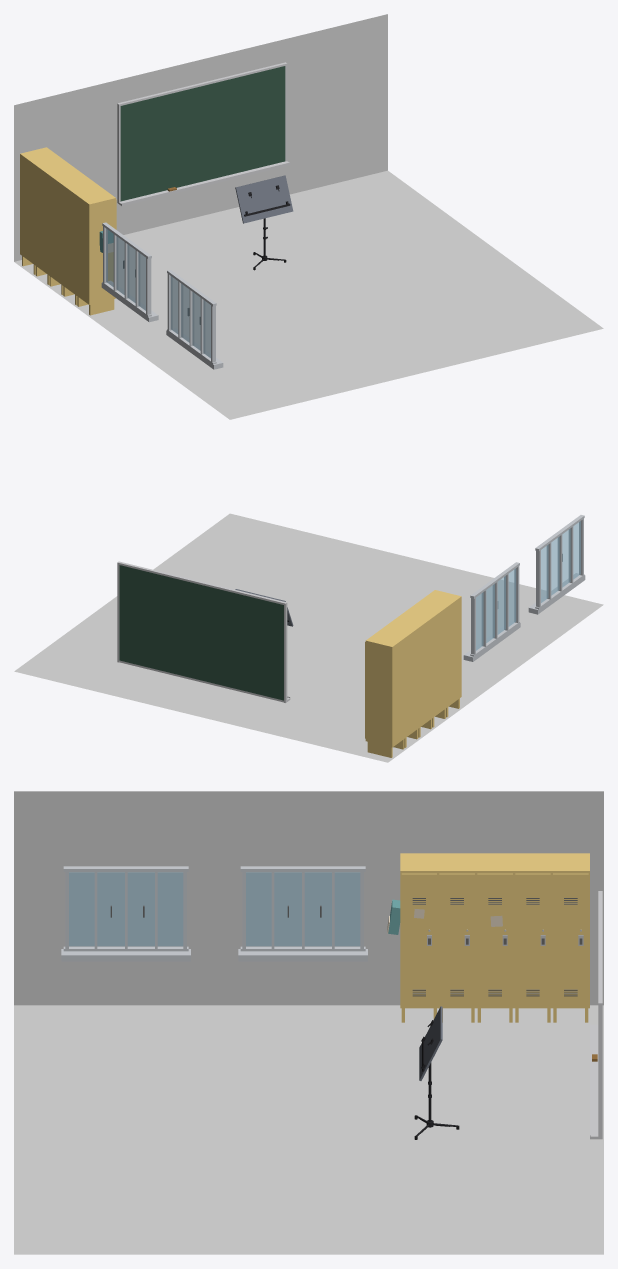
The model's file is Room.glb.
3 views of the same model, one above another, from view 1: azimuth 30°, elevation 25°; view 2: azimuth 150°, elevation 25°; view 3: azimuth 270°, elevation 25° (orthographic). The views are drawn at different scales.
Visible parts, largest first — view 1: room, Classroom_Board_Standard, Yellow_Locker_Set, Handle_Right, Handle_Right.001, Music Stand Sheet Plate; view 2: room, Classroom_Board_Standard, Yellow_Locker_Set, Handle_Right.001, Handle_Right; view 3: room, Yellow_Locker_Set, Handle_Right, Handle_Right.001, Classroom_Board_Standard, Music Stand Sheet Plate.
Boxes of the visible parts, left/top/right/bottom form: room: left=14, top=14, right=603, bottom=419; Classroom_Board_Standard: left=117, top=62, right=290, bottom=206; Yellow_Locker_Set: left=20, top=147, right=116, bottom=315; Handle_Right: left=166, top=270, right=223, bottom=369; Handle_Right.001: left=101, top=222, right=158, bottom=322; Music Stand Sheet Plate: left=235, top=175, right=293, bottom=270; room: left=14, top=513, right=603, bottom=762; Classroom_Board_Standard: left=117, top=561, right=290, bottom=702; Yellow_Locker_Set: left=365, top=590, right=461, bottom=757; Handle_Right.001: left=463, top=562, right=520, bottom=661; Handle_Right: left=528, top=515, right=585, bottom=614; room: left=14, top=791, right=603, bottom=1254; Yellow_Locker_Set: left=387, top=853, right=589, bottom=1022; Handle_Right: left=61, top=866, right=190, bottom=961; Handle_Right.001: left=238, top=866, right=367, bottom=961; Classroom_Board_Standard: left=590, top=891, right=602, bottom=1139; Music Stand Sheet Plate: left=414, top=1006, right=459, bottom=1139.
Size of the model in its own units: 10 by 4 by 10.
